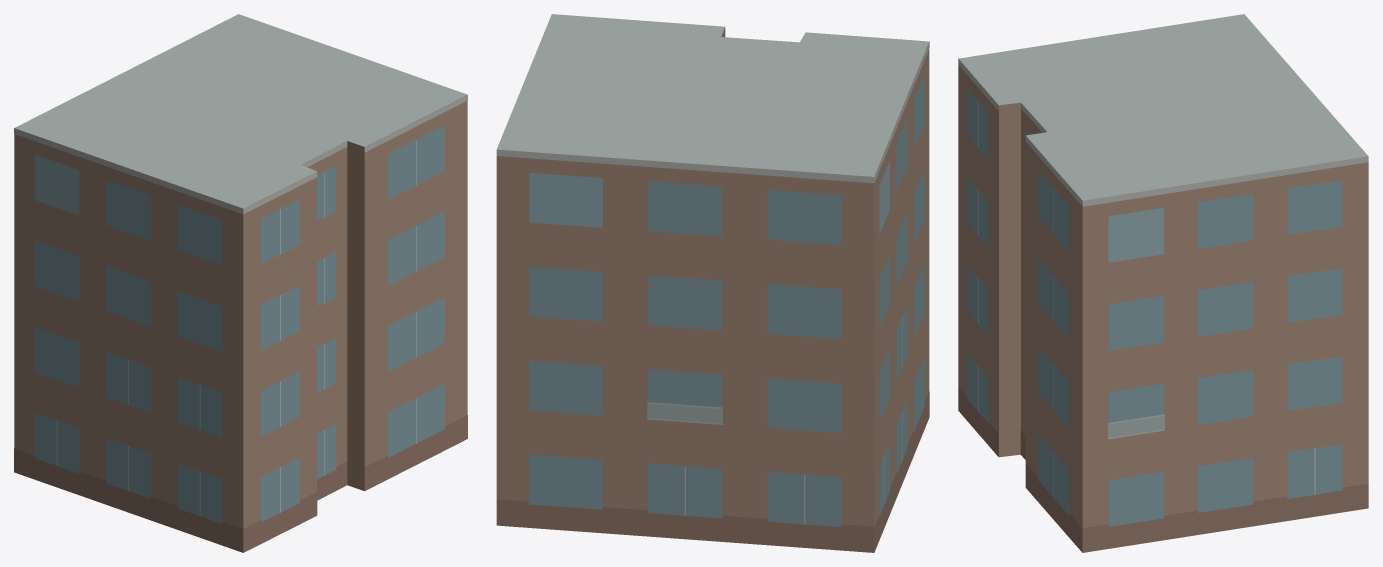
The model's file is survey-upis-32842489.glb.
3 renders of one model, left to right at view 1: azimuth 30°, elevation 25°; view 2: azimuth 150°, elevation 25°; view 3: azimuth 270°, elevation 25°, orthographic. The views are drawn at different scales.
Visible parts, largest first — view 1: survey-upis-32842489.tmp; view 2: survey-upis-32842489.tmp; view 3: survey-upis-32842489.tmp.
Boxes of the visible parts, x1,y1,x2,y2 form: survey-upis-32842489.tmp: (14, 14, 467, 552); survey-upis-32842489.tmp: (496, 14, 929, 552); survey-upis-32842489.tmp: (958, 14, 1368, 552).
Bounding box in the file's own units: 16.34 × 14.35 × 15.16.
